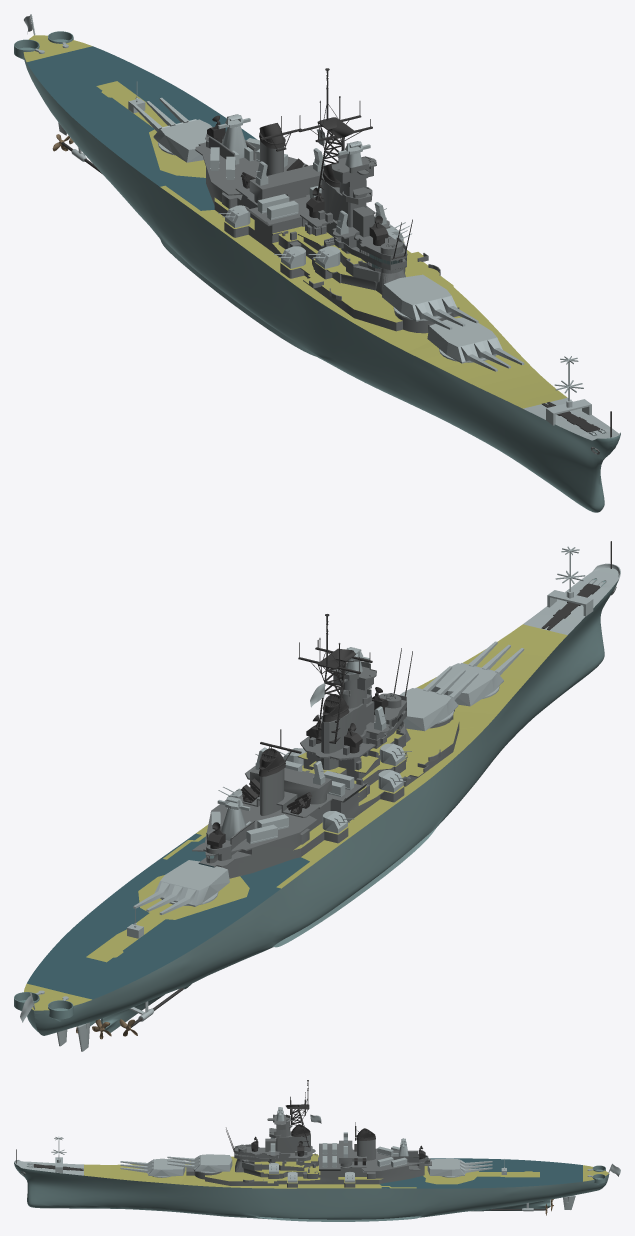
The model's file is mod1.obj.
3 renders of one model, top to bottom at view 1: azimuth 30°, elevation 25°; view 2: azimuth 150°, elevation 25°; view 3: azimuth 270°, elevation 25°, orthographic. The views are drawn at different scales.
Visible parts, largest first — view 1: NCasco, NCastillo, NCubHel, NCubMad, nterr4, NCanCue03, NCanCue2, NCanCue04, Nestr01, NCubiert, NRadTorr, NCanCan07 (+2 smaller); view 2: NCasco, NCastillo, NCubHel, NCubMad, NCanCue04, nterr4, NCubiert, NCanCue03, NCanCue2, Nestr01, NCasLat1, NCanCan08 (+1 smaller); view 3: NCasco, NCastillo, NCubHel, NCubMad, nterr4, NCanCue03, NCanCue04, NCanCue2, NCubiert, NCaLat, Nestr01, NCanCan (+3 smaller).
Part boxes in pixels (x1,y1,x2,y2): NCasco: [14, 31, 620, 512]; NCastillo: [195, 134, 459, 333]; NCubHel: [27, 46, 256, 210]; NCubMad: [23, 35, 567, 408]; nterr4: [272, 241, 458, 322]; NCanCue03: [382, 274, 456, 321]; NCanCue2: [427, 317, 502, 363]; NCanCue04: [153, 119, 212, 162]; Nestr01: [298, 96, 372, 198]; NCubiert: [523, 397, 618, 440]; NRadTorr: [218, 114, 253, 164]; NCanCan07: [415, 296, 478, 329]; NCasco: [14, 578, 618, 1035]; NCastillo: [192, 661, 459, 878]; NCubHel: [27, 833, 309, 999]; NCubMad: [24, 624, 567, 1010]; NCanCue04: [154, 860, 229, 906]; nterr4: [358, 719, 458, 805]; NCubiert: [523, 567, 619, 634]; NCanCue03: [400, 688, 458, 731]; NCanCue2: [431, 663, 503, 706]; Nestr01: [298, 638, 372, 743]; NCasLat1: [273, 827, 436, 947]; NCanCan08: [133, 882, 196, 914]; NCasco: [14, 1162, 609, 1219]; NCastillo: [186, 1114, 431, 1187]; NCubHel: [379, 1158, 582, 1188]; NCubMad: [84, 1161, 608, 1188]; nterr4: [205, 1156, 320, 1183]; NCanCue03: [195, 1154, 232, 1173]; NCanCue04: [427, 1158, 464, 1177]; NCanCue2: [148, 1158, 185, 1177]; NCubiert: [15, 1161, 83, 1175]; NCaLat: [256, 1216, 421, 1221]; Nestr01: [285, 1092, 309, 1147]; NCanCan: [120, 1160, 153, 1173].
Bounding box in the file's own units: 136 × 245 × 1056.
